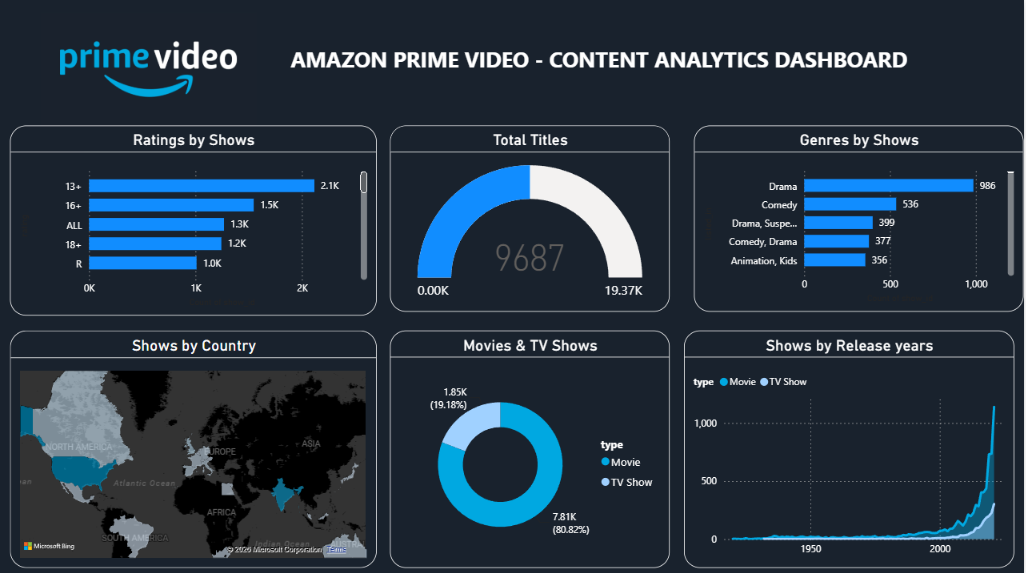

Layout of this report page (visuals, bound fields, positions):
{"tool":"powerbi","page":{"name":"Amazon Prime Video ","canvas":[1280,720],"ordinal":0},"visuals":[{"type":"filledMap","title":"Shows by Country","fields":{"Category":["amazon_prime_titles.country"]},"box":[12.1,413.8,458.4,296.8],"z":0},{"type":"donutChart","title":"Movies & TV Shows","fields":{"Category":["amazon_prime_titles.type"],"Y":["Count(amazon_prime_titles.show_id)"]},"box":[487.1,413.6,349.7,296.6],"z":1000},{"type":"areaChart","title":" Shows by Release years","fields":{"Category":["amazon_prime_titles.release_year"],"Y":["Count(amazon_prime_titles.show_id)"],"Series":["amazon_prime_titles.type"]},"box":[855.4,413.8,412.6,296.8],"z":2000},{"type":"image","box":[41.2,16.2,288.8,141.2],"z":3000},{"type":"barChart","title":"Ratings by Shows","fields":{"Category":["amazon_prime_titles.rating"],"Y":["Count(amazon_prime_titles.show_id)"]},"box":[12.1,158,458.4,237.7],"z":4000},{"type":"barChart","title":"Genres by Shows","fields":{"Y":["Count(amazon_prime_titles.show_id)"],"Category":["amazon_prime_titles.listed_in"]},"box":[868,157.8,412.2,232.7],"z":5000},{"type":"gauge","title":"Total Titles","fields":{"Y":["CountNonNull(amazon_prime_titles.show_id)"]},"box":[487.1,157.8,349.7,232.7],"z":6000},{"type":"textbox","box":[321.2,16.2,855,108.8],"z":7000}]}

Visuals, with their boxes in screenshot pixels (x1, y1, x2, y2), scaled from the page's 1280x720 canvas onto the 1026x573 screenshot:
"Shows by Country" filledMap: x1=10, y1=329, x2=377, y2=566
"Movies & TV Shows" donutChart: x1=390, y1=329, x2=671, y2=565
" Shows by Release years" areaChart: x1=686, y1=329, x2=1016, y2=566
image: x1=33, y1=13, x2=265, y2=125
"Ratings by Shows" barChart: x1=10, y1=126, x2=377, y2=315
"Genres by Shows" barChart: x1=696, y1=126, x2=1025, y2=311
"Total Titles" gauge: x1=390, y1=126, x2=671, y2=311
textbox: x1=257, y1=13, x2=943, y2=99
